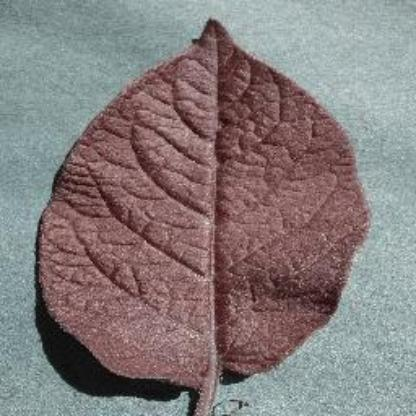Healthy-plant: (23, 16, 392, 402)
